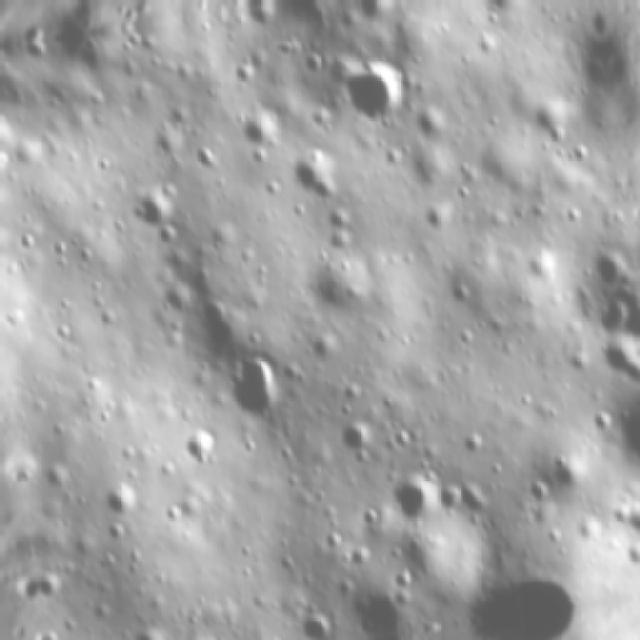crater: (219, 341, 296, 433), (172, 286, 252, 366), (330, 54, 410, 134), (374, 455, 448, 537), (277, 140, 338, 208), (513, 88, 575, 152), (570, 235, 633, 294), (598, 392, 640, 478), (128, 179, 182, 244), (88, 474, 146, 532), (583, 335, 640, 393), (342, 580, 402, 632), (323, 415, 380, 467), (164, 422, 216, 471), (182, 136, 227, 178), (285, 600, 330, 640), (519, 244, 561, 282), (236, 113, 278, 150), (478, 0, 545, 22), (612, 492, 640, 539), (522, 478, 556, 513), (454, 426, 486, 460)
